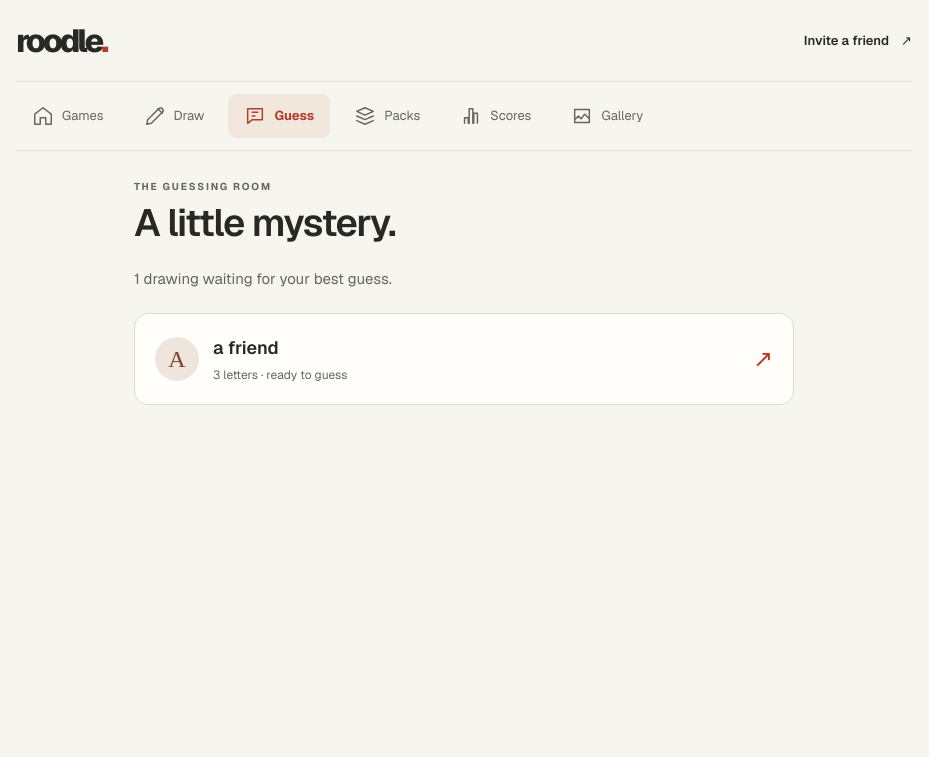
Test: PlayPage › reports a correct guess and clears the active turn (GUESS-04 happy path)
The image size is (929, 757).
Click the button with aria-label "a drawing to guess" at (177, 359), box [134,312,794,404]
(page scrolled)
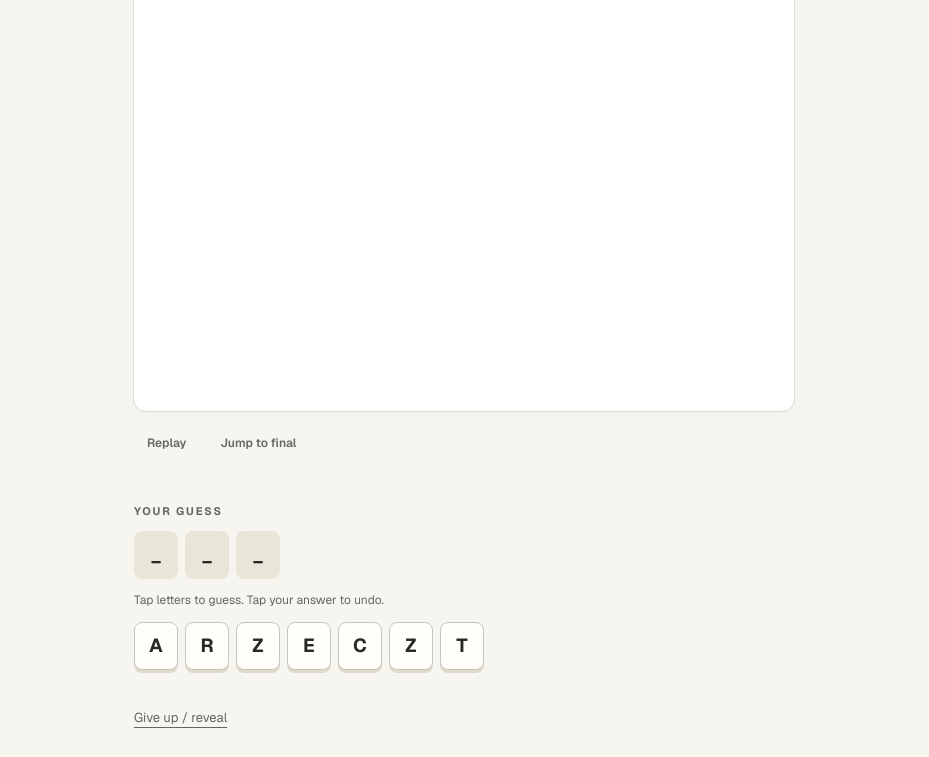
Click the button "C" at (360, 646), box [338,622,382,670]
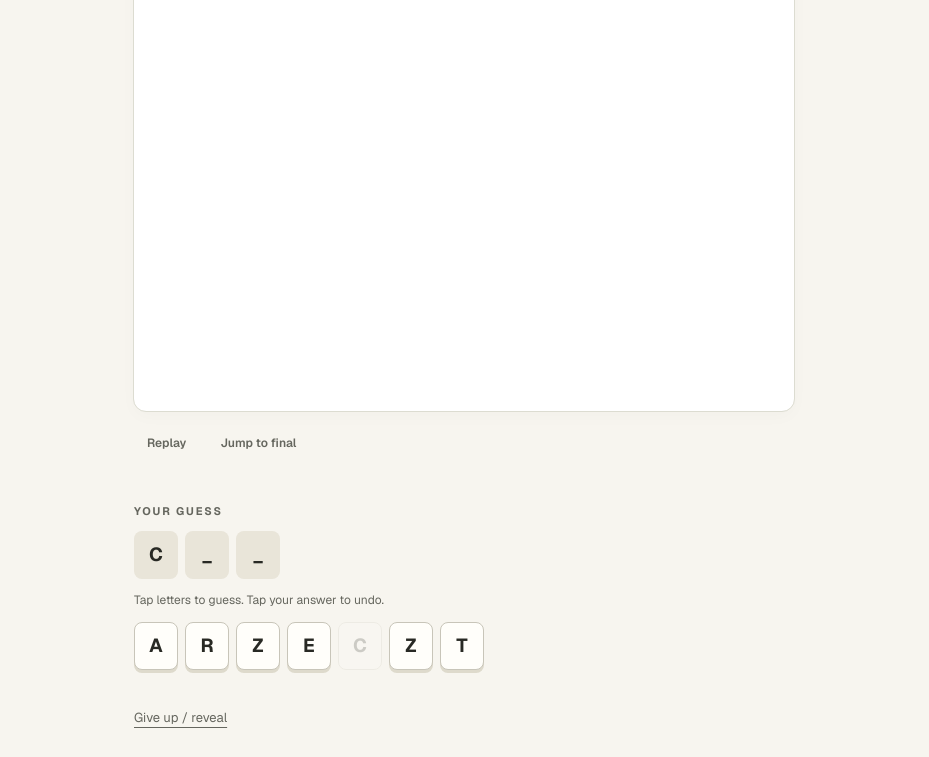
Click the button "A" at (156, 646), box [134,622,178,670]
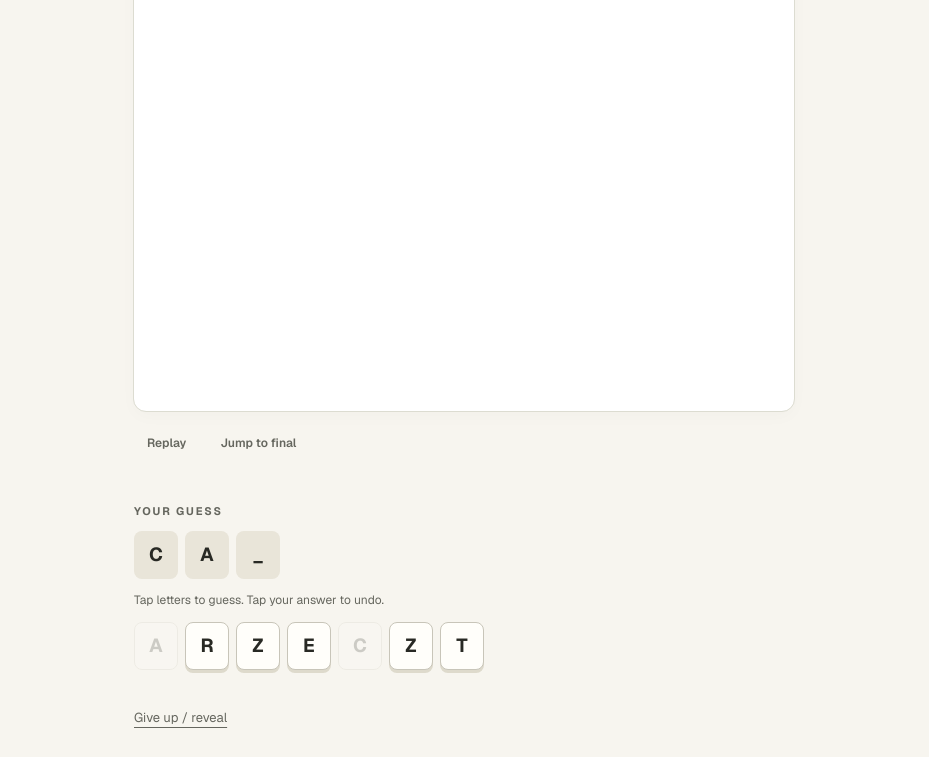
Click the button "T" at (462, 646), box [440,622,484,670]
(page scrolled)
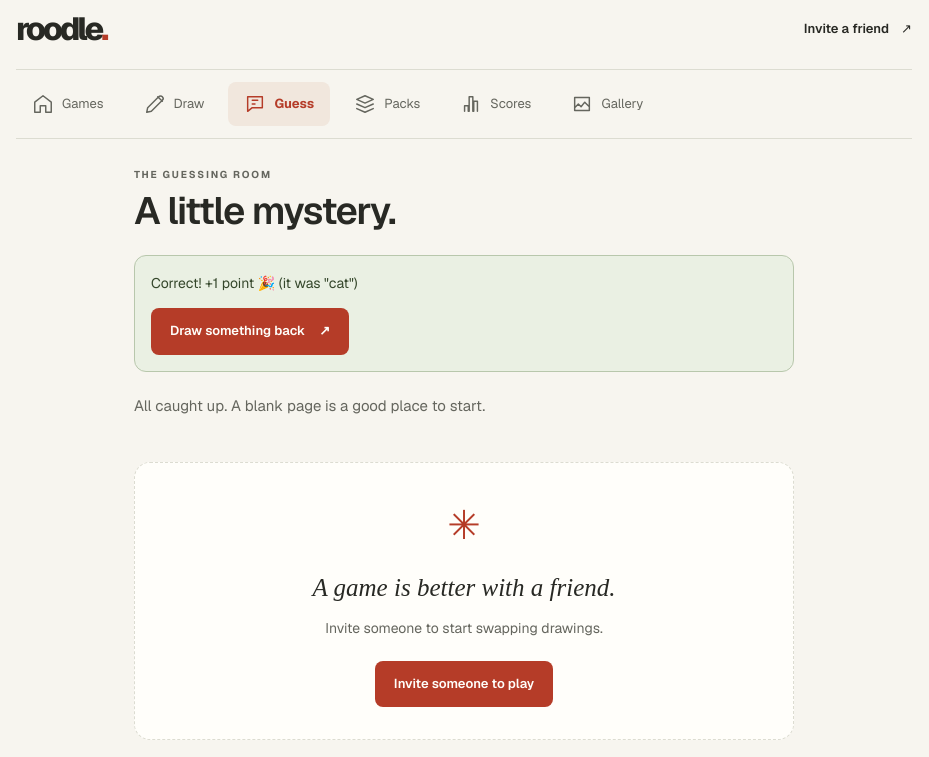
Now the text "Correct! +1 point 🎉 (it was \"cat\")" is shown, box [151,274,358,292]
